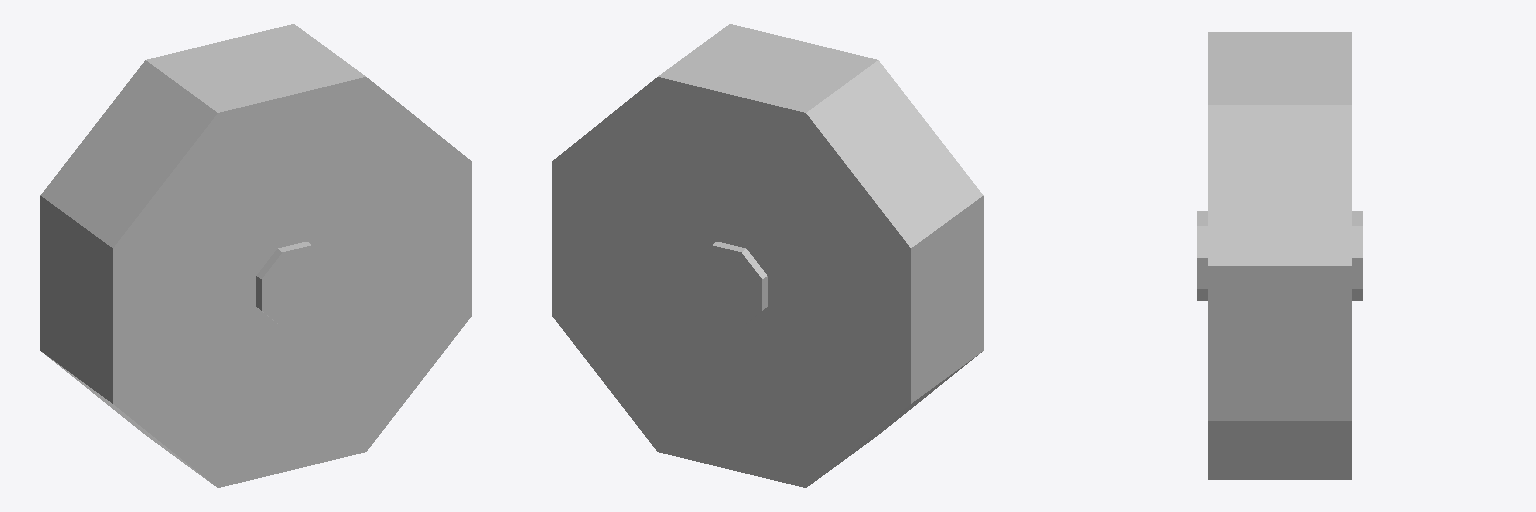
Rendered from flywheel.obj.
3 views of the same model, side by side, from view 1: azimuth 30°, elevation 25°; view 2: azimuth 150°, elevation 25°; view 3: azimuth 270°, elevation 25° (orthographic).
Visible parts, largest first — view 1: Flywheel_Cylinder, Shaft; view 2: Flywheel_Cylinder, Shaft; view 3: Flywheel_Cylinder, Shaft.
Boxes of the visible parts, <box> form: Flywheel_Cylinder: <box>40,24,471,487</box>; Shaft: <box>256,242,332,326</box>; Flywheel_Cylinder: <box>552,24,983,487</box>; Shaft: <box>691,242,767,326</box>; Flywheel_Cylinder: <box>1208,32,1351,479</box>; Shaft: <box>1197,211,1362,300</box>.
Bounding box in the file's own units: 2.5 × 2.5 × 1.